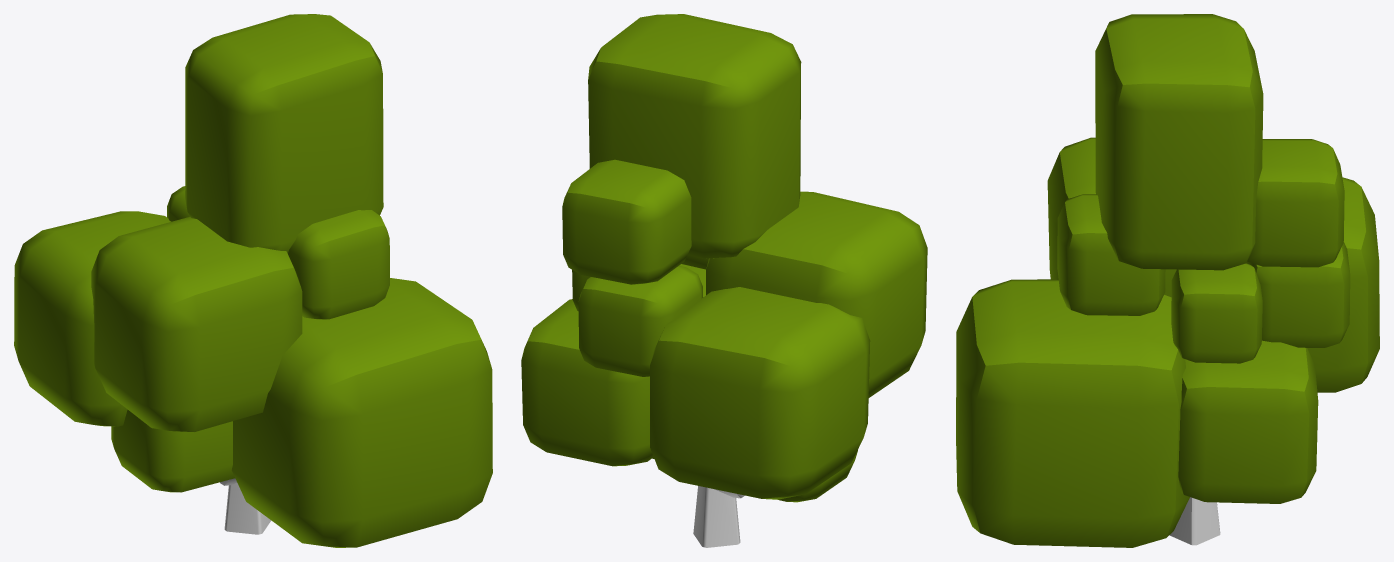
The model's file is SM_Pararie_Tree_03_Wind_anim.fbx.
The picture shows the model from 3 angles, left to right: view 1: azimuth 30°, elevation 25°; view 2: azimuth 150°, elevation 25°; view 3: azimuth 270°, elevation 25°; orthographic projection. The views are drawn at different scales.
Visible parts, largest first — view 1: SM_Pararie_Tree_03; view 2: SM_Pararie_Tree_03; view 3: SM_Pararie_Tree_03.
Boxes of the visible parts, left/top/right/bottom form: SM_Pararie_Tree_03: left=14, top=14, right=492, bottom=547; SM_Pararie_Tree_03: left=521, top=14, right=927, bottom=547; SM_Pararie_Tree_03: left=956, top=14, right=1379, bottom=547.
Size of the model in its own units: 139 by 201 by 152.
